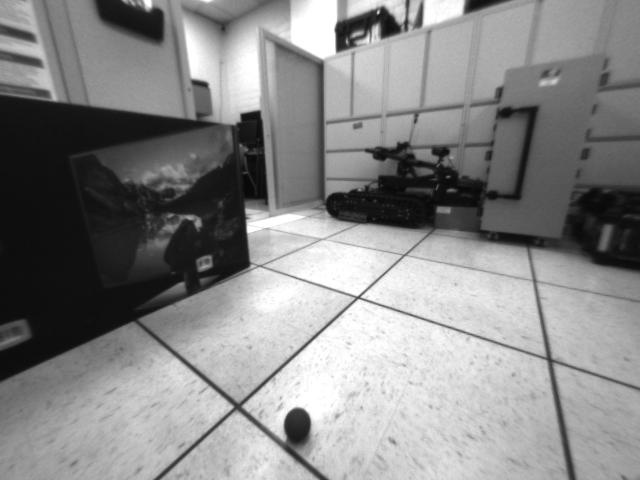dogtoy: (274, 399, 317, 448)
